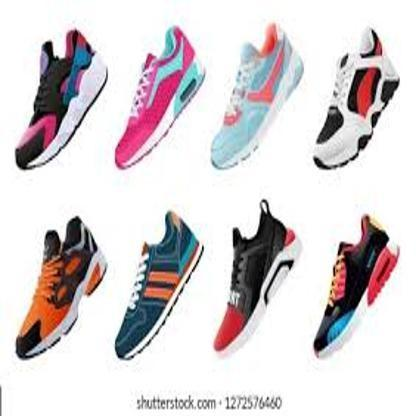not trash: (10, 214, 107, 364), (214, 199, 303, 357), (115, 210, 203, 361), (312, 24, 403, 170), (211, 23, 302, 168), (15, 31, 110, 166), (313, 212, 401, 356), (116, 23, 201, 168)
